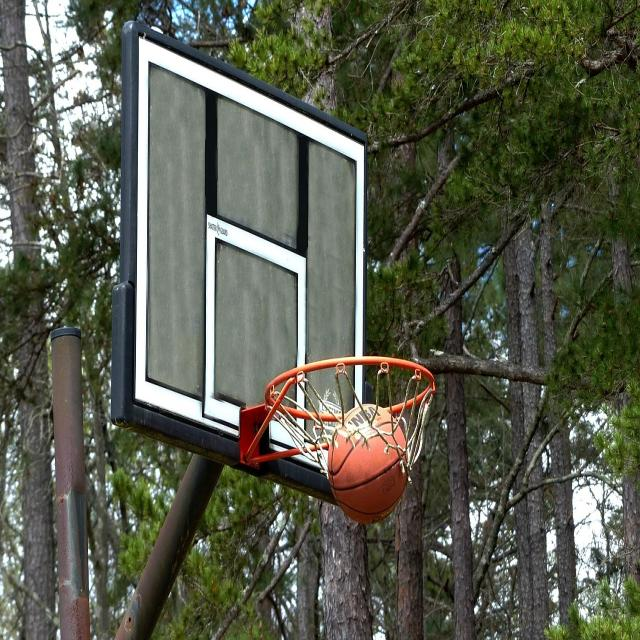Goal: (328, 404, 407, 524)
